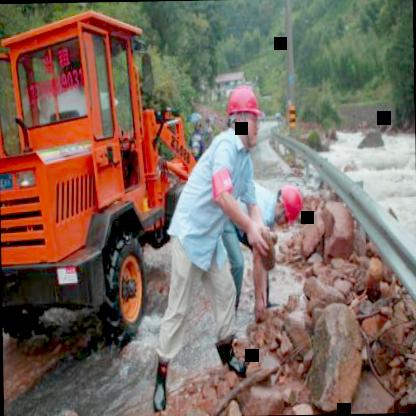helmet: (223, 82, 266, 146), (270, 178, 306, 228)
